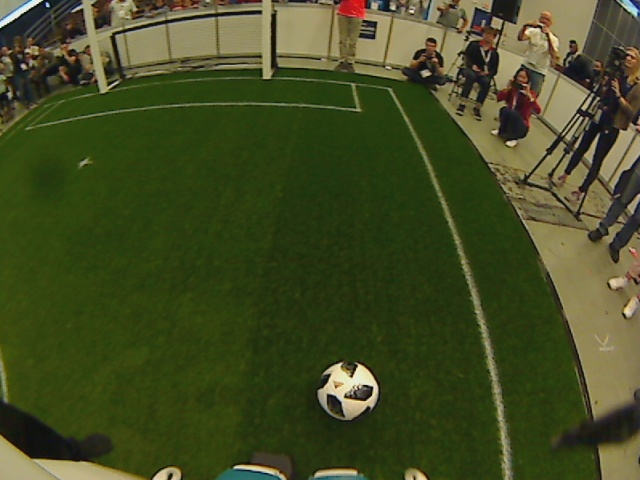ball: (315, 358, 380, 422)
